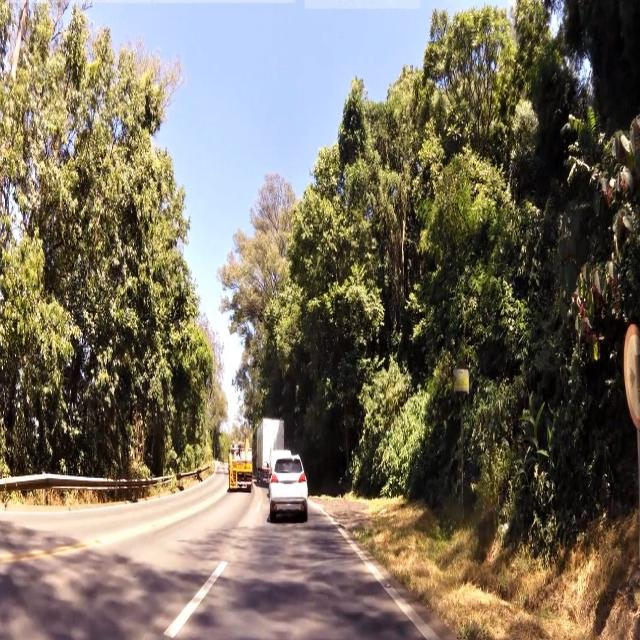R-27: (623, 322, 640, 434)
